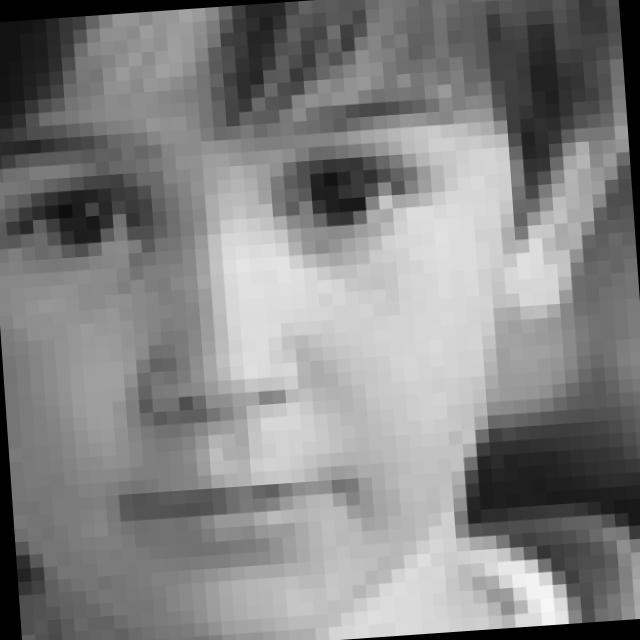neutral: (0, 89, 501, 593)
